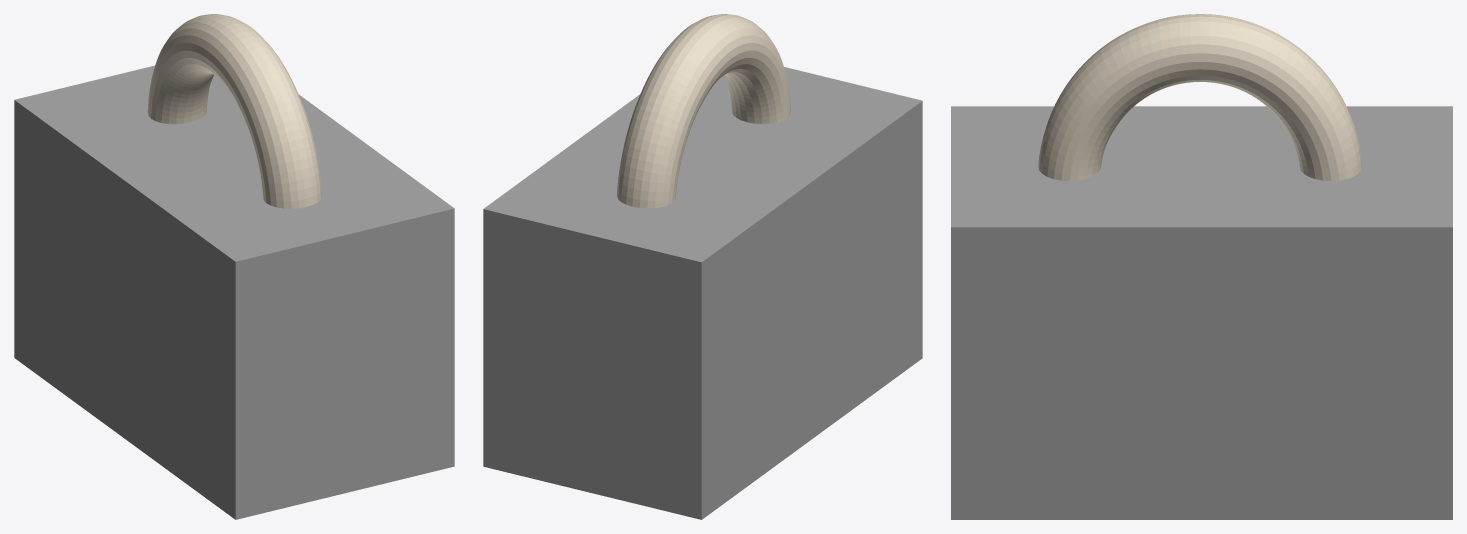
File: Lock.fbx
The picture shows the model from 3 angles, left to right: view 1: azimuth 30°, elevation 25°; view 2: azimuth 150°, elevation 25°; view 3: azimuth 270°, elevation 25°; orthographic projection. The views are drawn at different scales.
Parts seen in each view (by area): view 1: Cube, Torus; view 2: Cube, Torus; view 3: Cube, Torus.
Part boxes in pixels (x1,y1,x2,y2): Cube: [14, 65, 454, 519]; Torus: [147, 14, 322, 208]; Cube: [483, 67, 922, 519]; Torus: [616, 14, 790, 208]; Cube: [951, 106, 1452, 519]; Torus: [1038, 14, 1362, 181].
Size of the model in its own units: 200 by 340 by 350.
